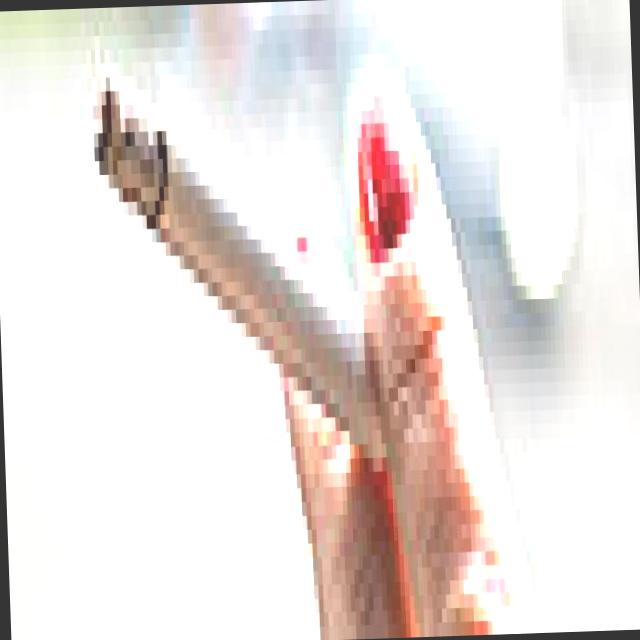smoke: (68, 39, 392, 384)
